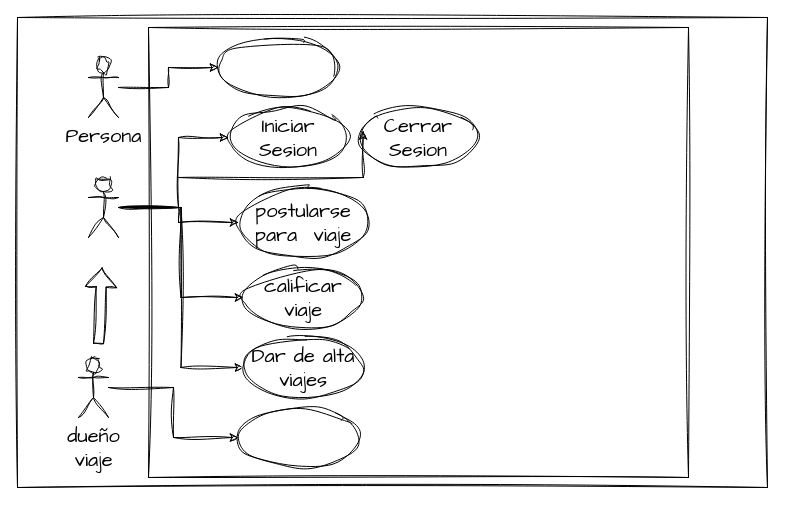
Image size: 785x505. Some labels were removed from this diagram. Each missing label, with the centre of its shape:
"Aceptar pasajero" belongs at point (298, 437).
"Registrarse" belongs at point (278, 67).
"Usuario" belongs at point (103, 207).
